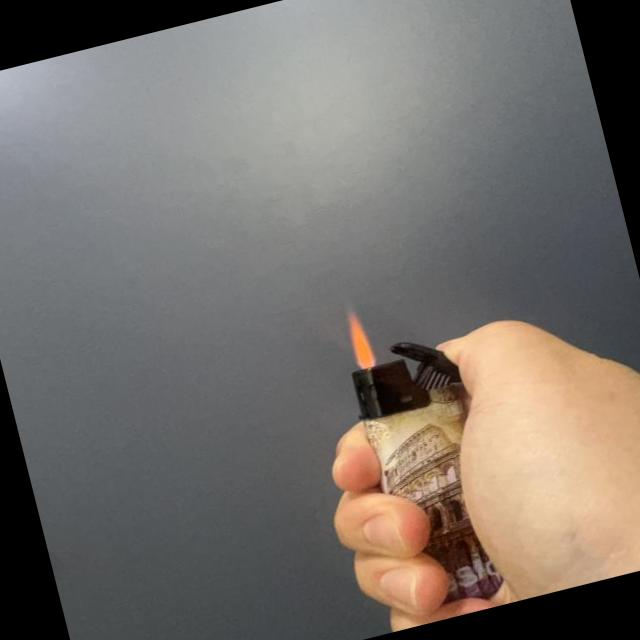Fire: (342, 308, 380, 370)
